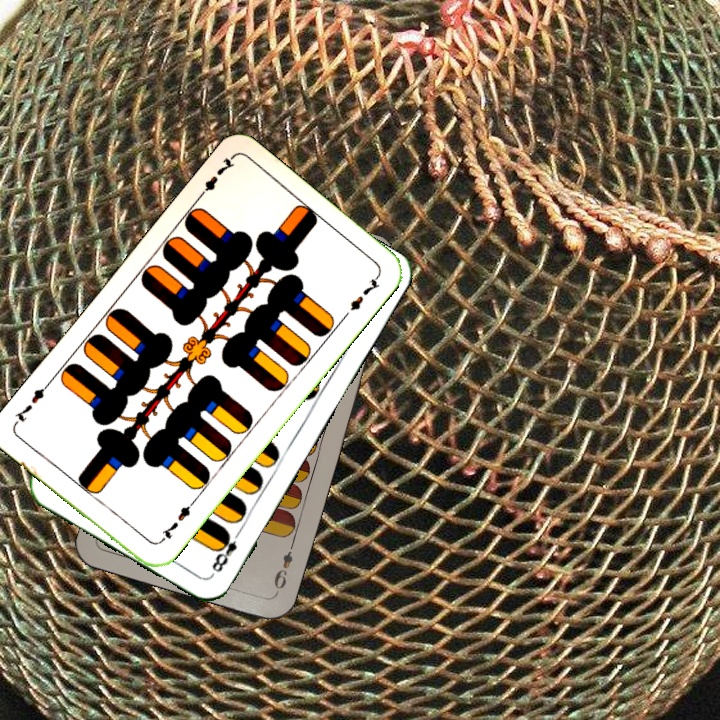E7: (193, 153, 238, 202), (155, 496, 198, 546)
E8: (208, 525, 245, 575)
E9: (269, 538, 297, 596)
